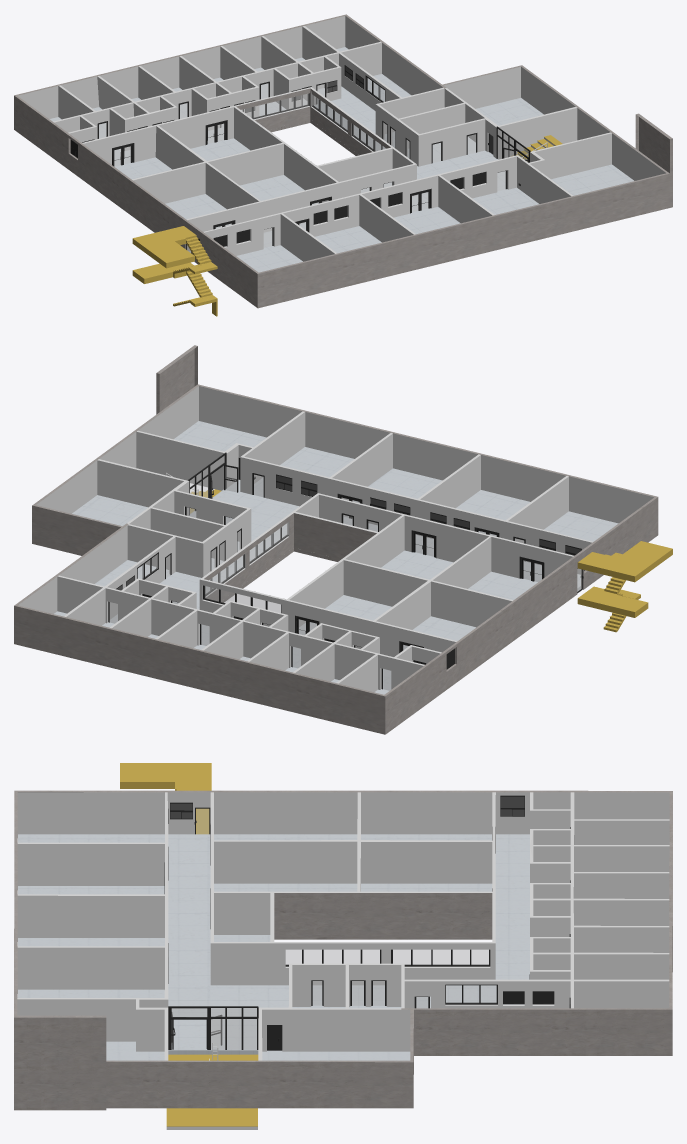
Rendered from POSGRADO-P3OP.glb.
3 views of the same model, one above another, from view 1: azimuth 30°, elevation 25°; view 2: azimuth 150°, elevation 25°; view 3: azimuth 270°, elevation 25° (orthographic). The views are drawn at different scales.
Visible parts, largest first — view 1: Paredes_P3, Piso_P3, Entrada_P3, uploads_files_2998670_1999:stair; view 2: Paredes_P3, Piso_P3, Entrada_P3, uploads_files_2998670_1999:stair; view 3: Paredes_P3, Piso_P3, Entrada_P3, uploads_files_2998670_1999:stair.
Part boxes in pixels (x1,y1,x2,y2): Paredes_P3: (14, 14, 672, 308); Piso_P3: (49, 47, 633, 272); Entrada_P3: (70, 65, 530, 252); uploads_files_2998670_1999:stair: (132, 135, 562, 316); Paredes_P3: (14, 345, 658, 734); Piso_P3: (54, 421, 618, 694); Entrada_P3: (108, 452, 584, 690); uploads_files_2998670_1999:stair: (190, 489, 672, 632); Paredes_P3: (14, 790, 672, 1110); Piso_P3: (18, 834, 529, 1060); Entrada_P3: (164, 795, 570, 1050); uploads_files_2998670_1999:stair: (120, 763, 258, 1126).
Size of the model in its own units: 0.4275 by 0.0918 by 0.3869.
7 materials, 2 textured.
